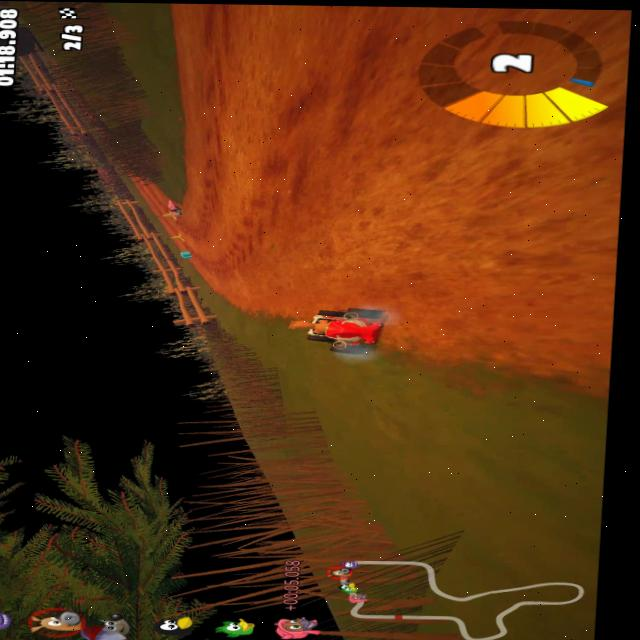bonus: (177, 249, 193, 260)
obstacle: (166, 230, 185, 242)
player_kart: (286, 305, 397, 357)
track: (396, 6, 634, 349), (284, 5, 415, 307), (229, 4, 306, 305), (170, 3, 252, 188), (199, 186, 236, 286), (184, 184, 205, 245), (130, 176, 159, 214)
